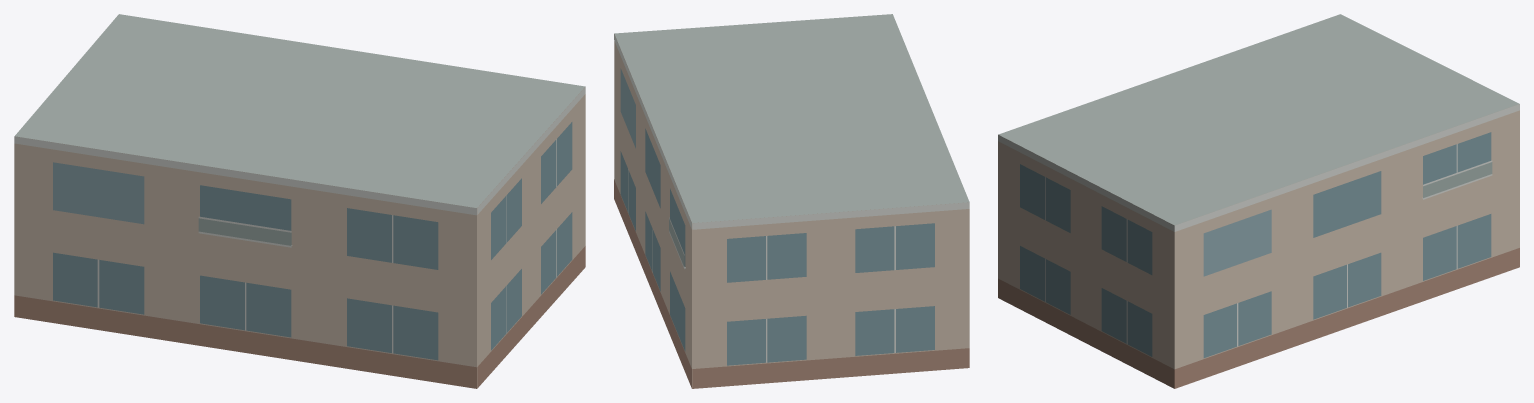
The model's file is survey-upis-33017152.glb.
3 renders of one model, left to right at view 1: azimuth 30°, elevation 25°; view 2: azimuth 150°, elevation 25°; view 3: azimuth 270°, elevation 25°, orthographic. The views are drawn at different scales.
Visible parts, largest first — view 1: survey-upis-33017152.tmp; view 2: survey-upis-33017152.tmp; view 3: survey-upis-33017152.tmp.
Boxes of the visible parts, box(x1,y1,x2,y2) form: survey-upis-33017152.tmp: box(14, 14, 585, 388); survey-upis-33017152.tmp: box(614, 14, 969, 388); survey-upis-33017152.tmp: box(998, 14, 1519, 388).
Bounding box in the file's own units: 16.95 × 6.1 × 17.66.
